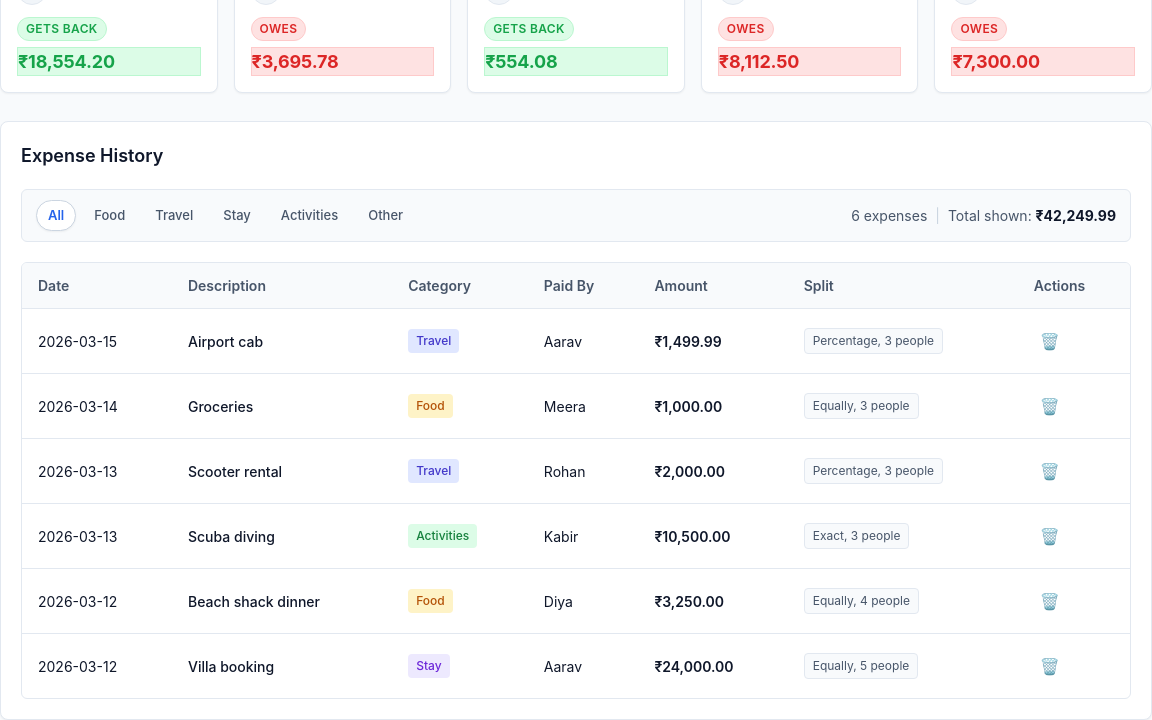
Test case: ExpensesPage Integration › deletes an expense upon confirmation and immediately recalculates balances and totals
(page scrolled)
Expected: the text "6 expenses" is shown, [851,205,927,226]
// Find and click delete for "Villa booking" (₹24,000.00 paid by Aarav)
Click the button named "delete expense: villa booking": (1050, 666) [1034,648,1066,684]
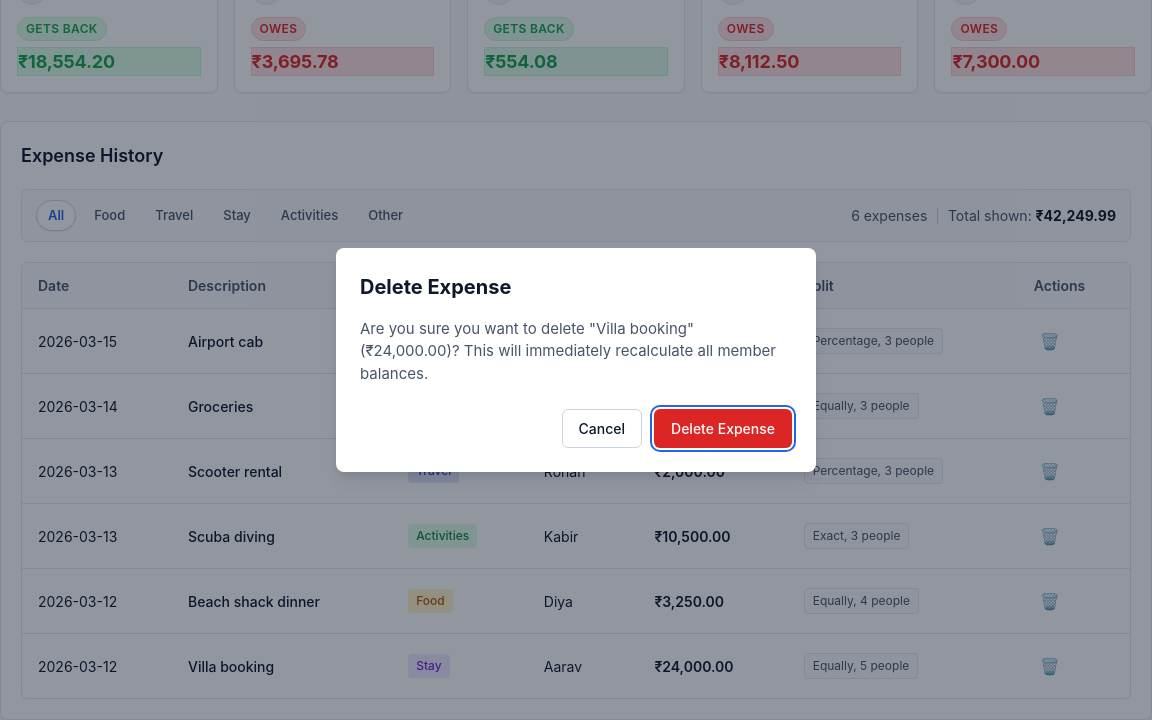
// Confirm deletion
Click the button "Delete Expense": (723, 429) [654,409,792,448]
(page scrolled)
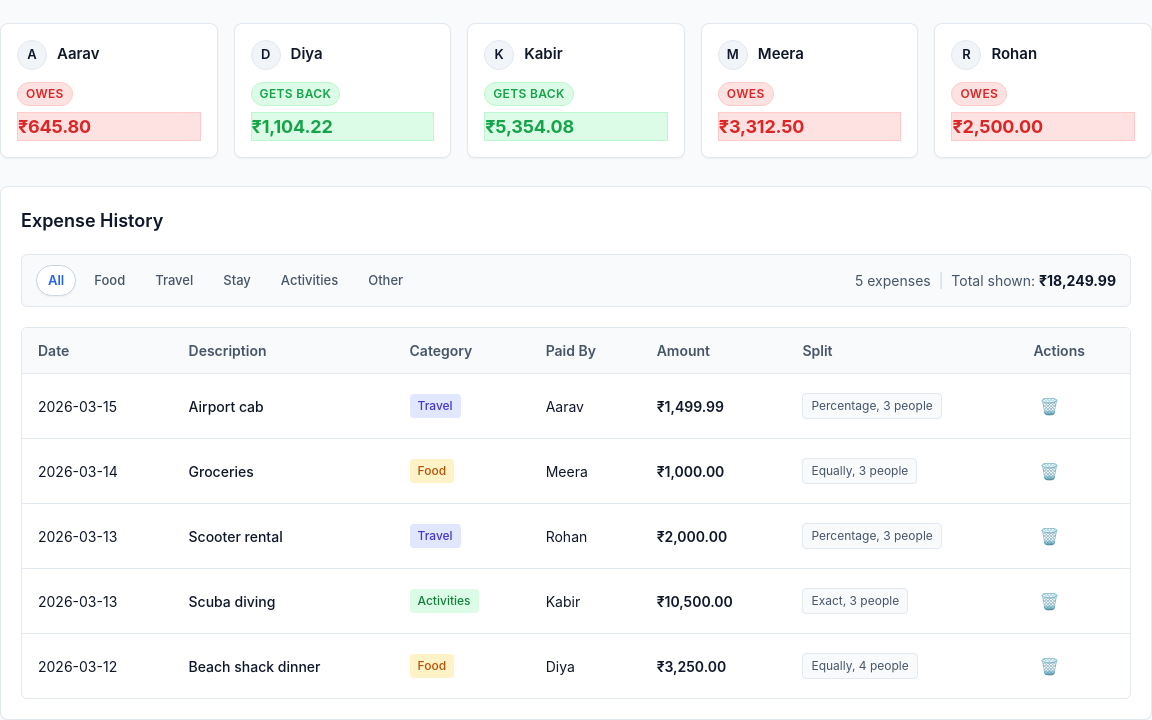
Now the text "Villa booking" is gone
Now the text "5 expenses" is shown, box [855,270,931,291]
